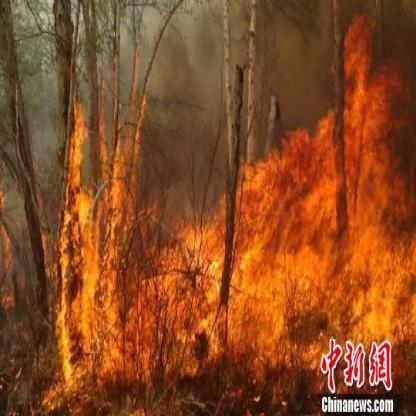fire: (157, 38, 415, 398), (52, 91, 148, 402), (0, 173, 25, 312)
